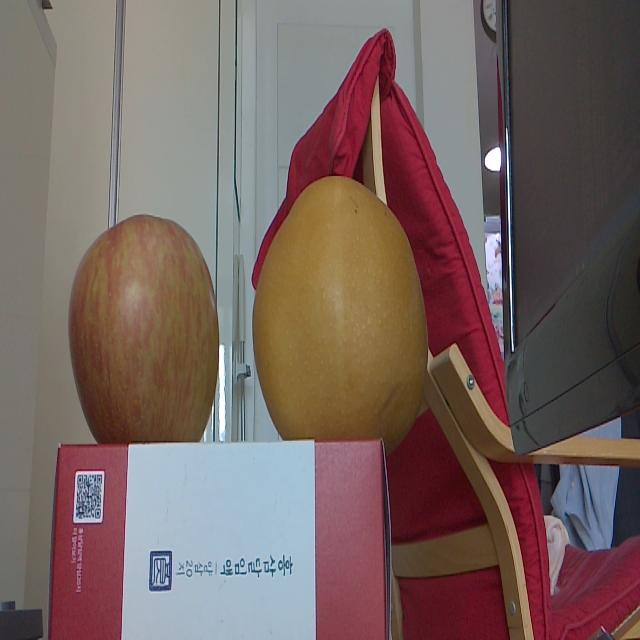apple: (70, 212, 221, 445)
pear: (252, 173, 430, 442)
